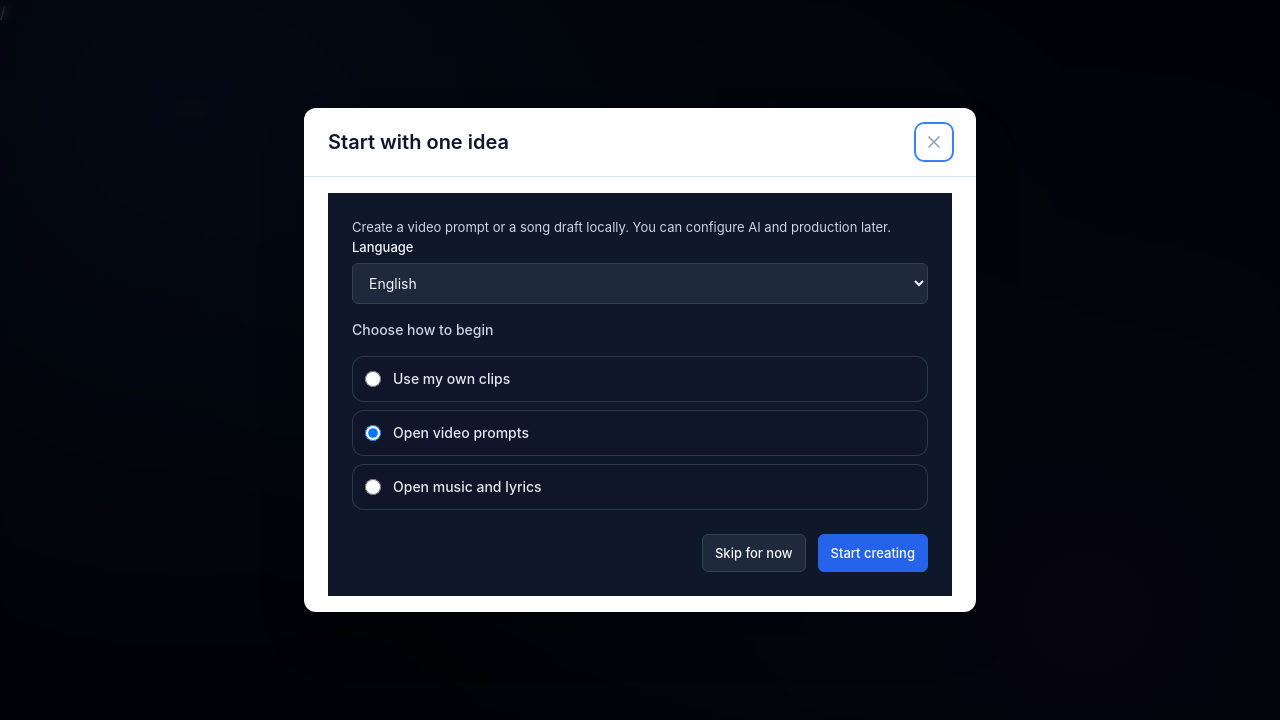
Test: local-first welcome › offers three clear start goals and opens music without provider configuration
Click the radio button labelled "Open music and lyrics". click: (373, 487)
box: [365, 479, 381, 495]
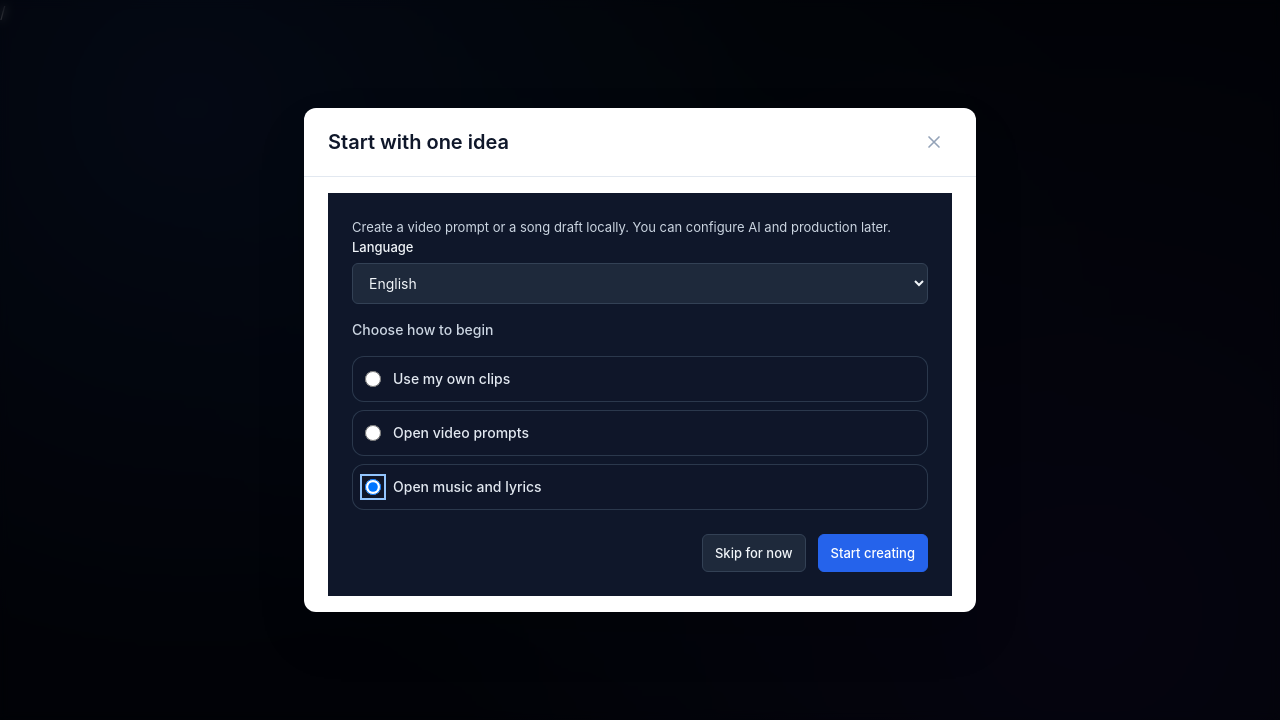
Click the button "Start creating". click: (873, 553)
box: [818, 534, 928, 572]
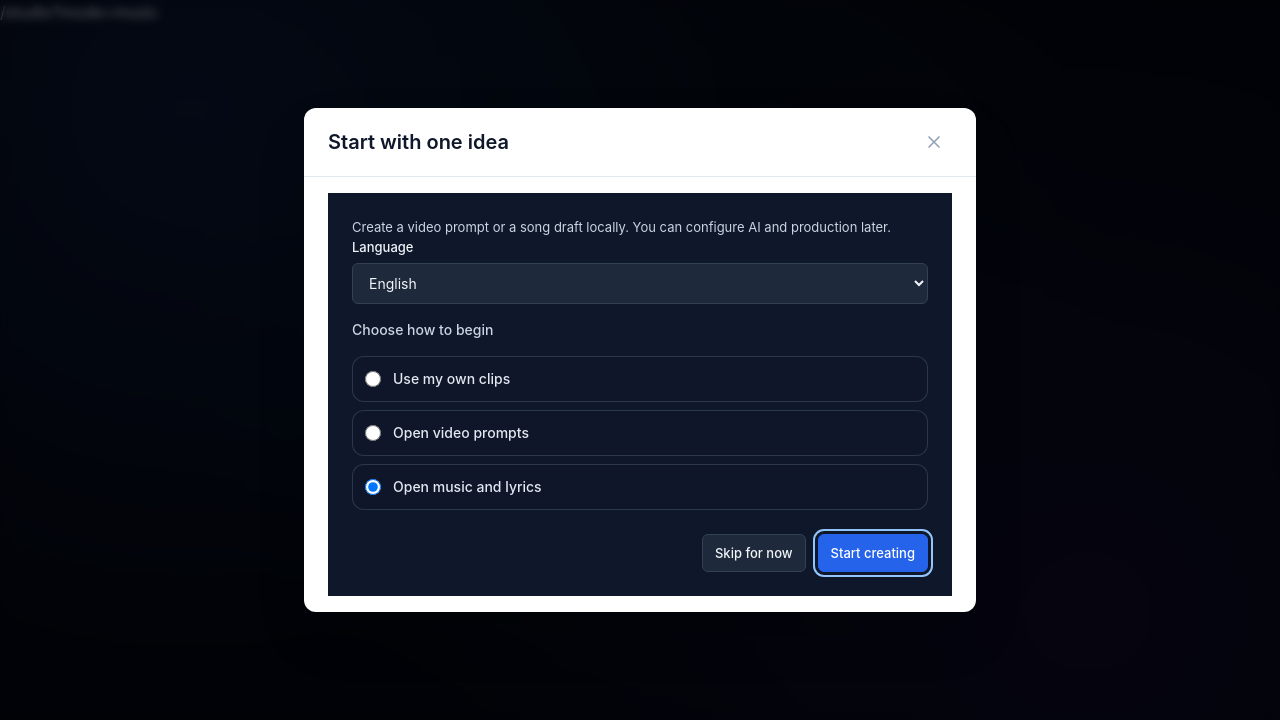
Result: the text with test id "current-location" reads "/studio?mode=music" at [0, 2, 159, 22]
